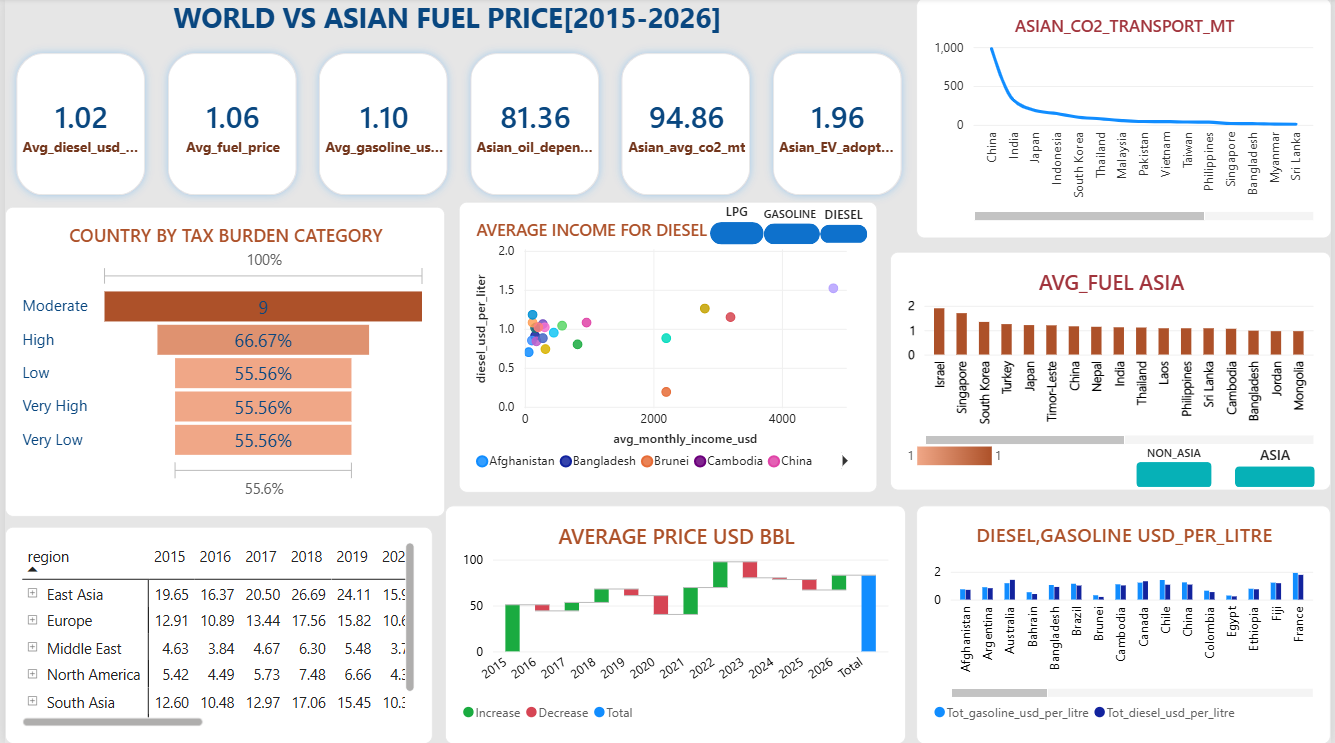

The page's visual inventory and layout, read from the dashboard file:
{"tool":"powerbi","page":{"name":"Page 1","canvas":[1280,720],"ordinal":0},"visuals":[{"type":"waterfallChart","title":"AVERAGE PRICE USD BBL","fields":{"Category":["crude_oil_annual3.year"],"Y":["calculation.Price Delta"]},"box":[425,490,445,230],"z":0},{"type":"pivotTable","fields":{"Columns":["date.year"],"Rows":["price_trend_monthly6.region","price_trend_monthly6.country"],"Values":["Sum(price_trend_monthly6.gasoline_usd_per_liter)"]},"box":[0,510.3,412.6,209.9],"z":1000},{"type":"clusteredColumnChart","title":"DIESEL,GASOLINE USD_PER_LITRE","fields":{"Category":["global_fuel_prices5.country"],"Y":["calculation.Tot_gasoline_usd_per_litre","calculation.Tot_diesel_usd_per_litre"]},"box":[880,490,400,230],"z":2000},{"type":"cardVisual","fields":{"Data":["calculation.avg_diesel_usd_per_litre","calculation.avg_fuel_price","calculation.avg_gasoline_usd_per_litre","calculation.asian_oil_dependency","calculation.Asian_avg_co2_mt","calculation.Asian_EV_adoption"]},"box":[0,42.2,879.5,159.3],"z":4000},{"type":"columnChart","title":"AVG_FUEL ASIA","fields":{"Category":["global_fuel_prices5.country"],"Y":["calculation.avg_fuel_usd_1"]},"box":[854.2,244.9,425.9,230.4],"z":6000},{"type":"actionButton","title":"ASIA","box":[1187.1,431.4,77.1,40],"z":7000},{"type":"actionButton","title":"NON_ASIA","box":[1091.4,431.4,72.9,40],"z":8000},{"type":"textbox","box":[0,0,854.2,45.8],"z":9000},{"type":"scatterChart","title":"AVERAGE INCOME FOR DIESEL","fields":{"Series":["asia_fuel_prices_detailed.country"],"X":["asia_fuel_prices_detailed.avg_monthly_income_usd"],"Y":["asia_fuel_prices_detailed.diesel_usd_per_liter"]},"box":[437.9,196.6,404.2,281.1],"z":10000},{"type":"actionButton","title":"GASOLINE","box":[732.3,201.5,54.3,36.2],"z":12000},{"type":"actionButton","title":"DIESEL","box":[786.6,200.3,45.8,36.2],"z":13000},{"type":"actionButton","title":"LPG","box":[680.4,197.9,51.9,39.8],"z":14000},{"type":"funnel","title":"COUNTRY BY TAX BURDEN CATEGORY","fields":{"Category":["fuel_tax_comparison4.tax_burden_category"],"Y":["CountNonNull(fuel_tax_comparison4.country)"]},"box":[0,201.5,424.7,299.2],"z":15000},{"type":"lineChart","title":"ASIAN_CO2_TRANSPORT_MT","fields":{"Category":["asia_fuel_prices_detailed.country"],"Y":["Sum(asia_fuel_prices_detailed.co2_transport_mt)"]},"box":[879.5,0,400.5,231.6],"z":16000}]}

Visuals, with their boxes in screenshot pixels (x1, y1, x2, y2), scaled from the page's 1280x720 canvas onto the 1335x743 screenshot:
"AVERAGE PRICE USD BBL" waterfallChart: 443, 506, 907, 742
pivotTable - date.year x price_trend_monthly6.region: 0, 527, 430, 742
"DIESEL,GASOLINE USD_PER_LITRE" clusteredColumnChart: 918, 506, 1334, 742
cardVisual - calculation.avg_diesel_usd_per_litre x calculation.avg_fuel_price: 0, 44, 917, 208
"AVG_FUEL ASIA" columnChart: 891, 253, 1334, 490
"ASIA" actionButton: 1238, 445, 1319, 486
"NON_ASIA" actionButton: 1138, 445, 1214, 486
textbox: 0, 0, 891, 47
"AVERAGE INCOME FOR DIESEL" scatterChart: 457, 203, 878, 493
"GASOLINE" actionButton: 764, 208, 820, 245
"DIESEL" actionButton: 820, 207, 868, 244
"LPG" actionButton: 710, 204, 764, 245
"COUNTRY BY TAX BURDEN CATEGORY" funnel: 0, 208, 443, 517
"ASIAN_CO2_TRANSPORT_MT" lineChart: 917, 0, 1334, 239
